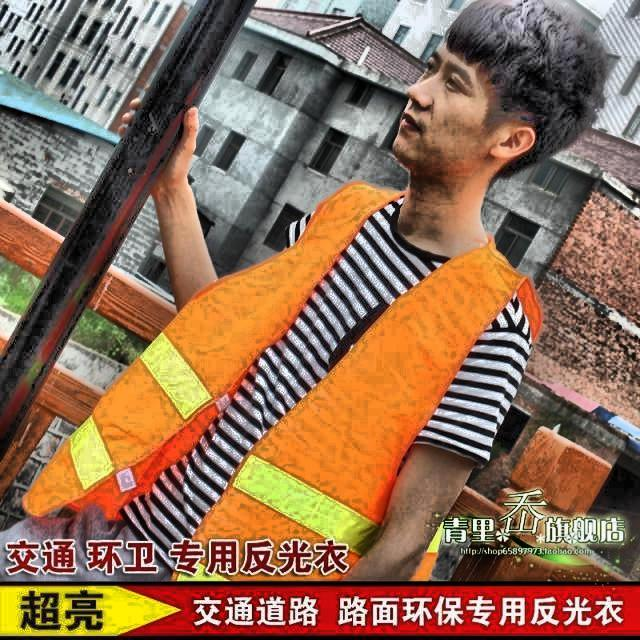safety_jacket: (61, 219, 483, 515)
